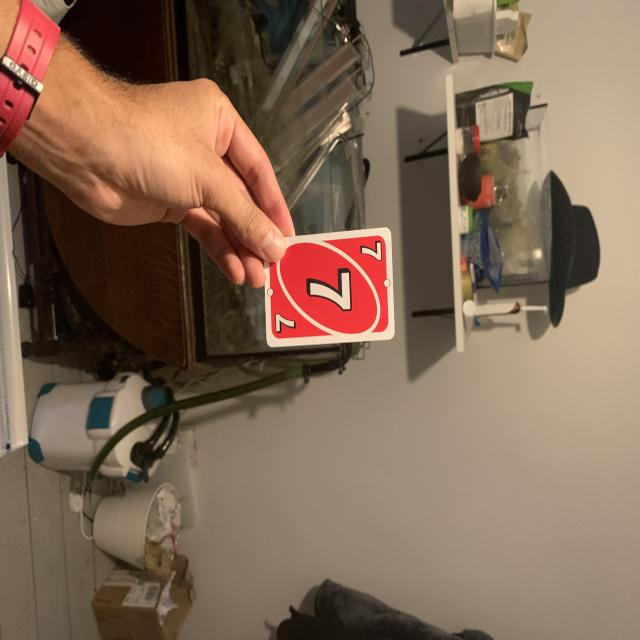lred-7: (357, 238, 382, 264)
